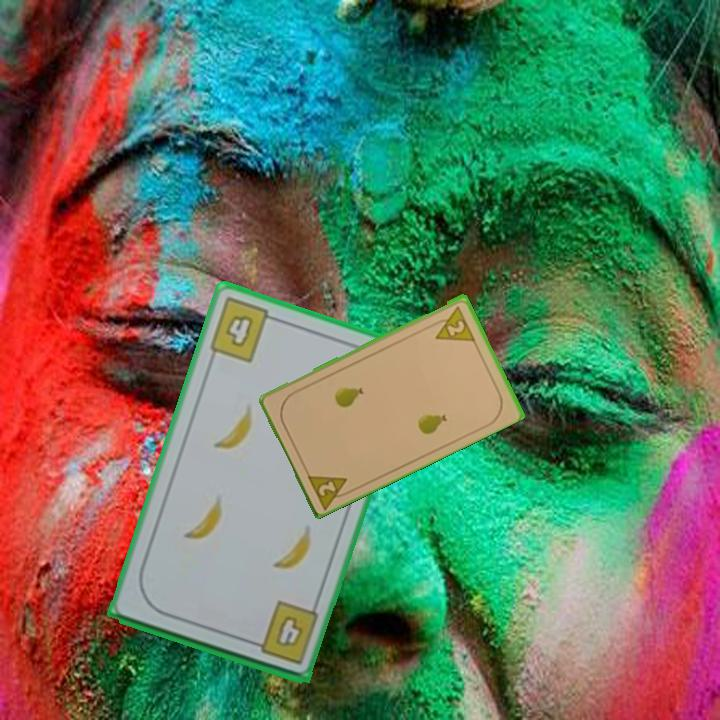2p: (303, 469, 357, 511), (427, 301, 478, 344)
4b: (206, 293, 282, 366), (244, 597, 322, 667)
